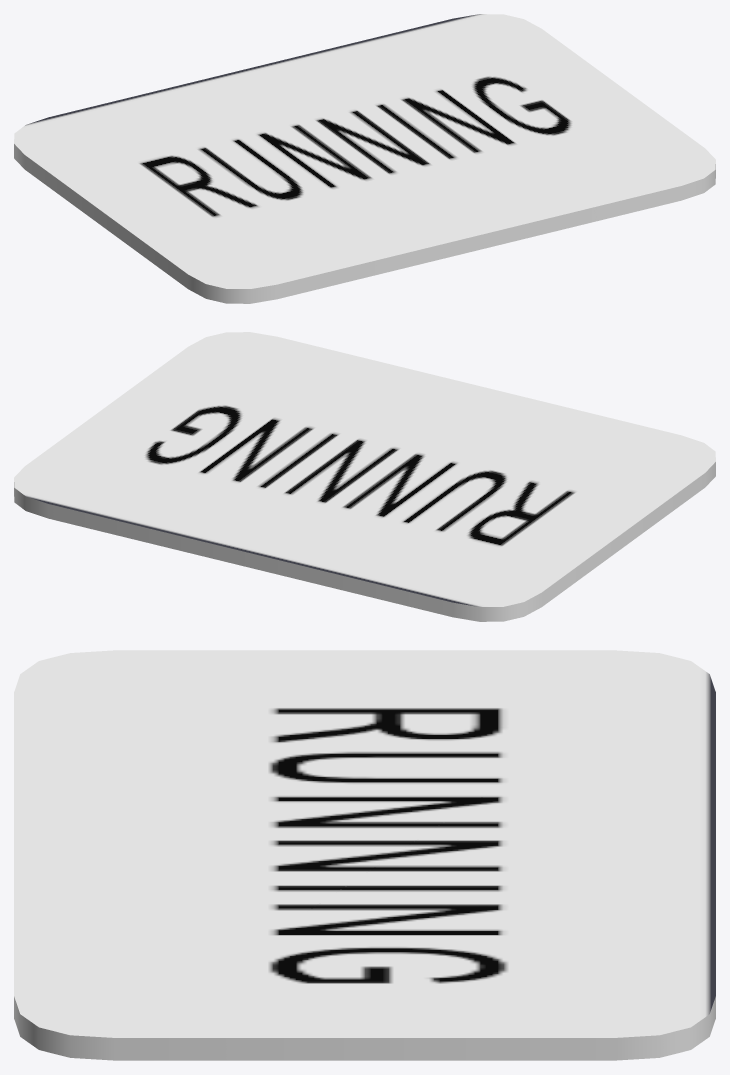
File: buttonLabel_running.fbx
3 renders of one model, top to bottom at view 1: azimuth 30°, elevation 25°; view 2: azimuth 150°, elevation 25°; view 3: azimuth 270°, elevation 25°, orthographic. The views are drawn at different scales.
Parts seen in each view (by area): view 1: buttonLabel_Running; view 2: buttonLabel_Running; view 3: buttonLabel_Running.
Boxes of the visible parts, bbox=[...] form: buttonLabel_Running: bbox=[14, 14, 715, 303]; buttonLabel_Running: bbox=[14, 332, 715, 621]; buttonLabel_Running: bbox=[14, 650, 715, 1060].
Bounding box in the file's own units: 1.84 × 0.05 × 1.41.
1 material, 1 textured.
